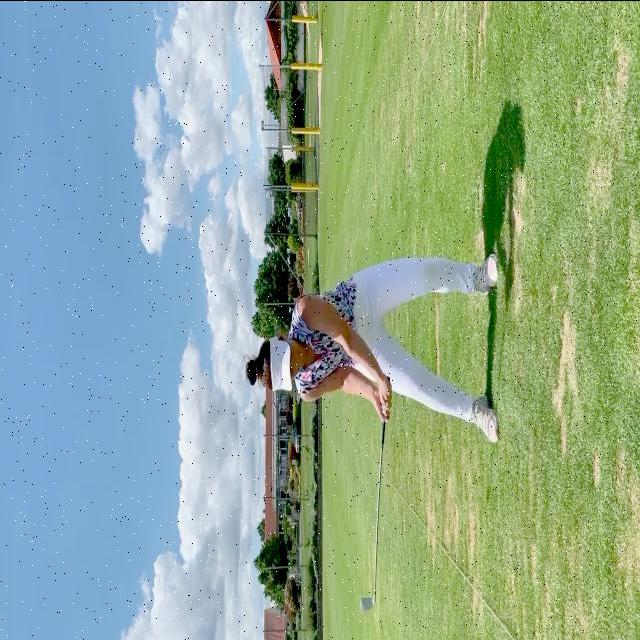golf club-handle: (360, 374, 390, 612)
golf club-head: (359, 591, 376, 610)
